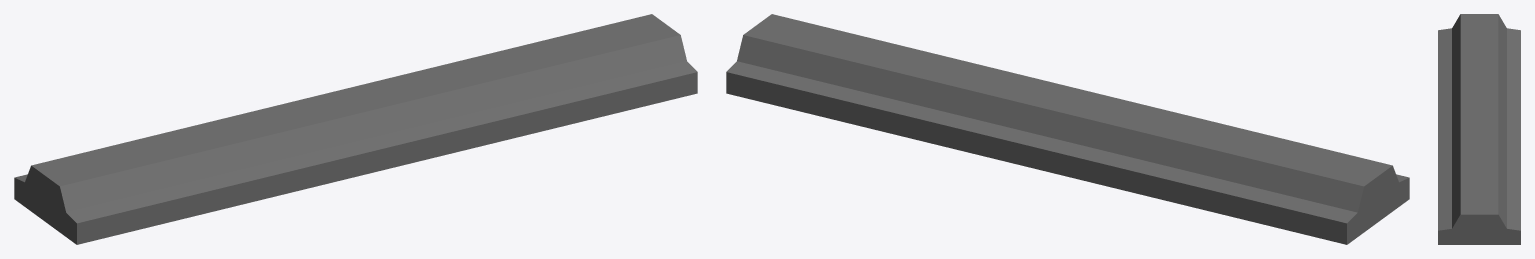
The model's file is SM_Bld_Base_Roof_Cap_01.glb.
The picture shows the model from 3 angles, left to right: view 1: azimuth 30°, elevation 25°; view 2: azimuth 150°, elevation 25°; view 3: azimuth 270°, elevation 25°; orthographic projection. The views are drawn at different scales.
Visible parts, largest first — view 1: SM_Bld_Base_Roof_Cap_01; view 2: SM_Bld_Base_Roof_Cap_01; view 3: SM_Bld_Base_Roof_Cap_01.
Part boxes in pixels (x1=…): SM_Bld_Base_Roof_Cap_01: x1=14, y1=14, x2=697, y2=244; SM_Bld_Base_Roof_Cap_01: x1=726, y1=14, x2=1409, y2=244; SM_Bld_Base_Roof_Cap_01: x1=1438, y1=14, x2=1520, y2=244.
Size of the model in its own units: 2.5 by 0.1772 by 0.437.
1 material, 1 textured.
